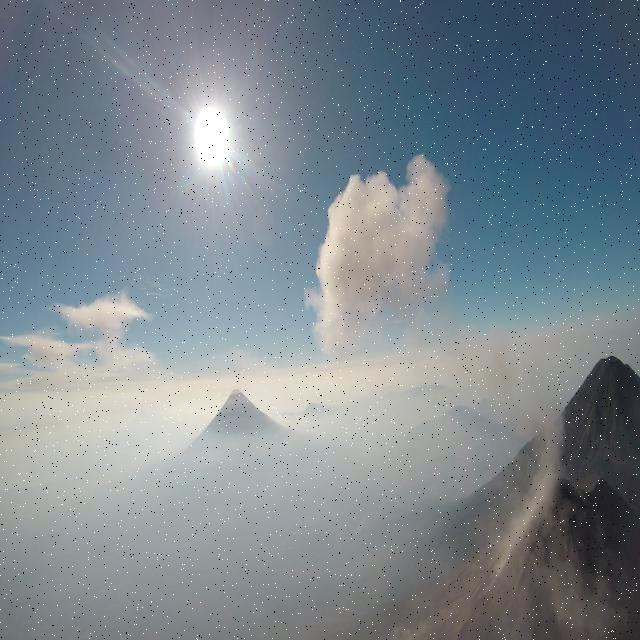Plume: (301, 150, 455, 348)
Summit: (524, 468, 586, 526)
